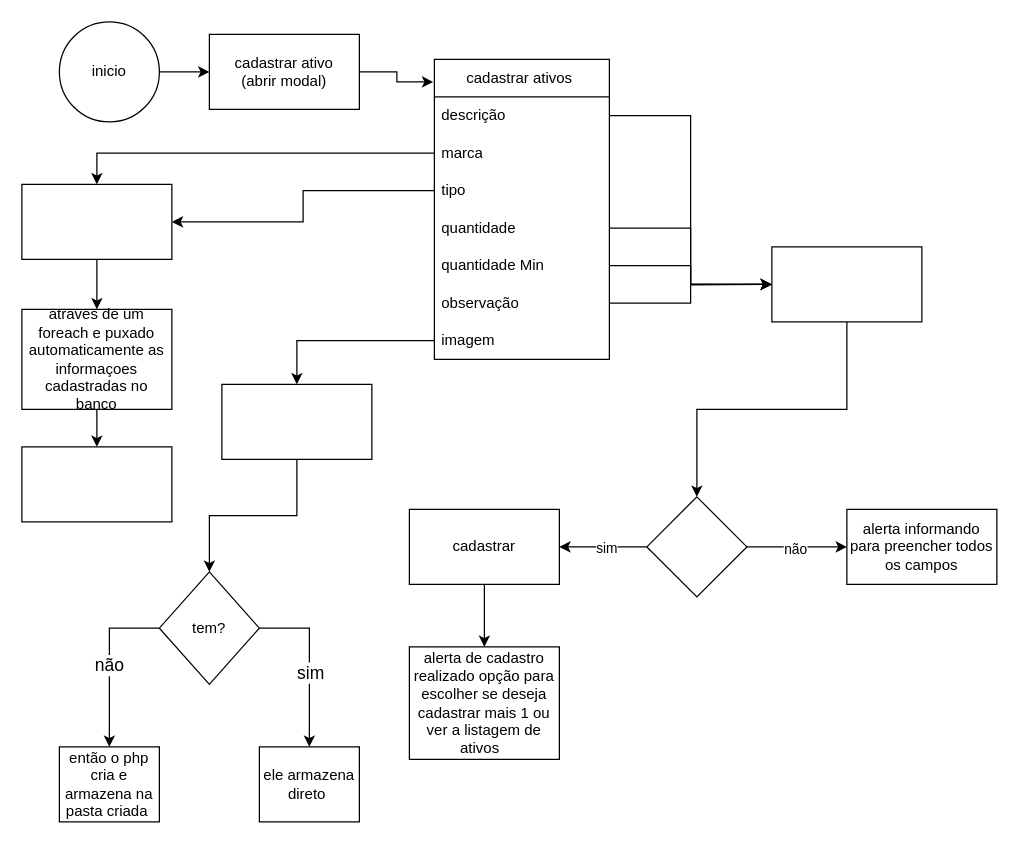
The diagram is 1019 pixels wide and 844 high, and some of its shapes have lost their labels. Each missing label, with the centre of its shape:
"função que busca informaçoes no banco" belongs at (96,221).
"php verifica se tem a pasta para a imagem" belongs at (296,421).
"usuario so escolhe qual dos marcas ou tipos o ativo precisa" belongs at (96,484).
"validação" belongs at (696,546).
"validação de campos" belongs at (846,284).
